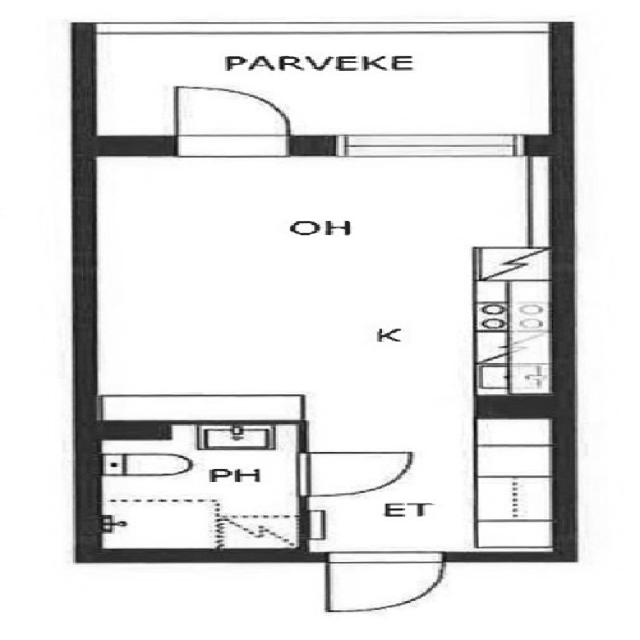door: (306, 546, 476, 632), (148, 82, 317, 165), (279, 442, 426, 510)
window: (89, 140, 566, 424), (87, 418, 299, 556), (308, 130, 552, 159)
